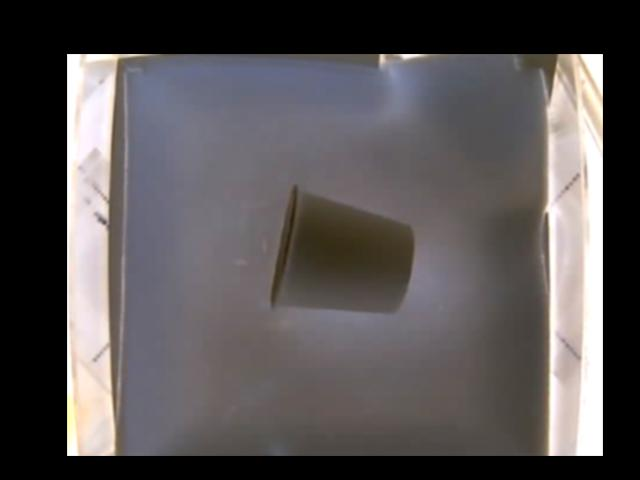Cup: (268, 181, 415, 316)
